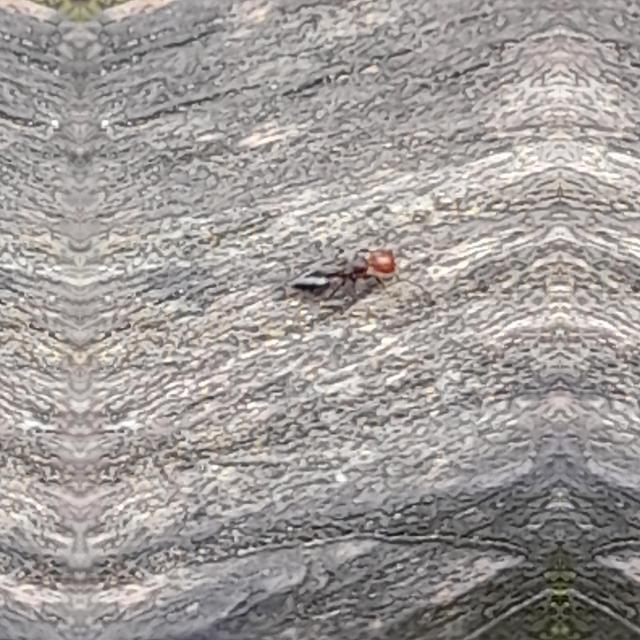Crematogaster: (292, 236, 406, 308)
